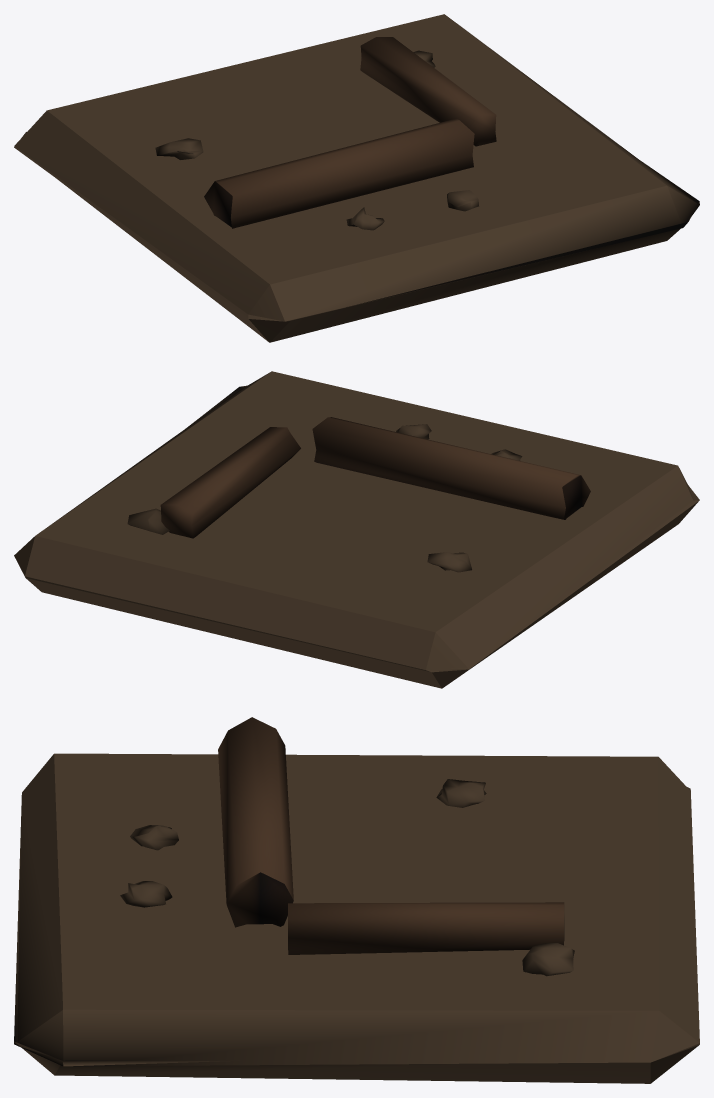
Rendered from floor_region1_v2.glb.
3 renders of one model, top to bottom at view 1: azimuth 30°, elevation 25°; view 2: azimuth 150°, elevation 25°; view 3: azimuth 270°, elevation 25°, orthographic. The views are drawn at different scales.
Parts seen in each view (by area): view 1: floor_region1_v2; view 2: floor_region1_v2; view 3: floor_region1_v2.
Boxes of the visible parts, x1,y1,x2,y2 form: floor_region1_v2: [14, 14, 699, 342]; floor_region1_v2: [14, 371, 699, 688]; floor_region1_v2: [14, 717, 699, 1083].
Bounding box in the file's own units: 1.02 × 0.2086 × 1.01.
